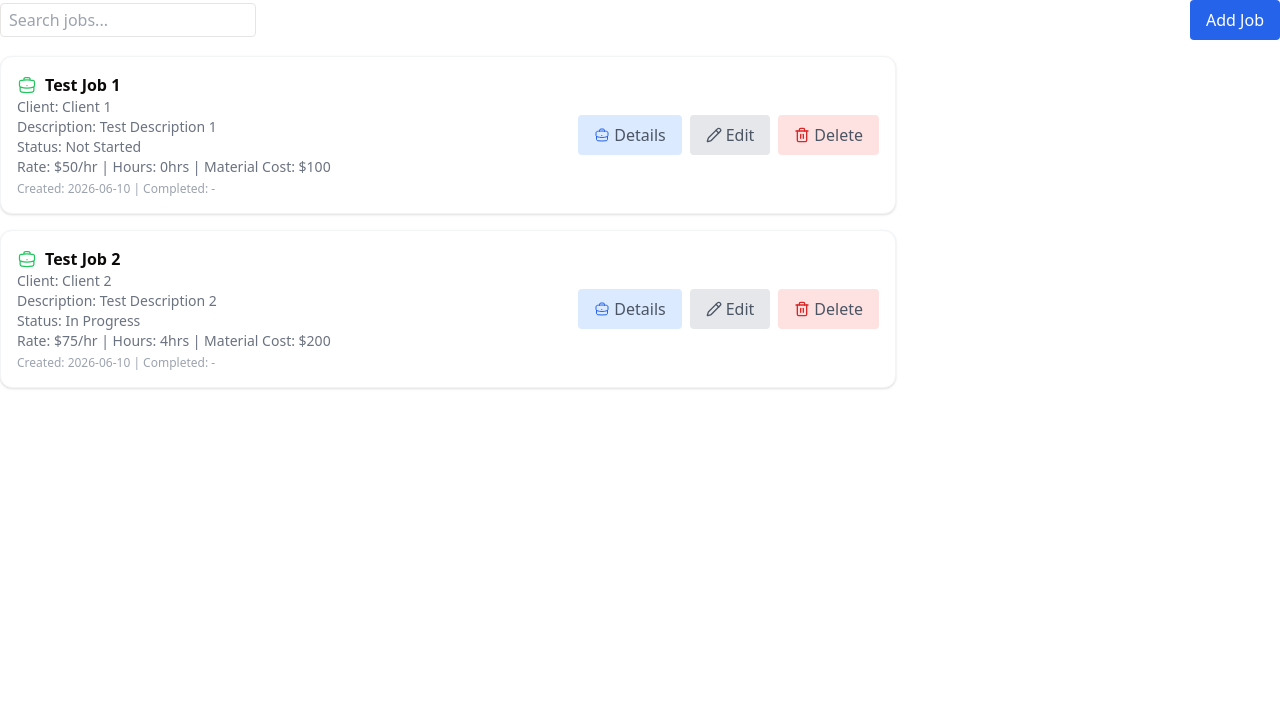
Test case: JobsListClient › opens create job form when create button is clicked
What coordinates should you click on to do the following:
click the button "Add Job"
I would click on:
 (1235, 20)
Its box is [1190,0,1279,40].
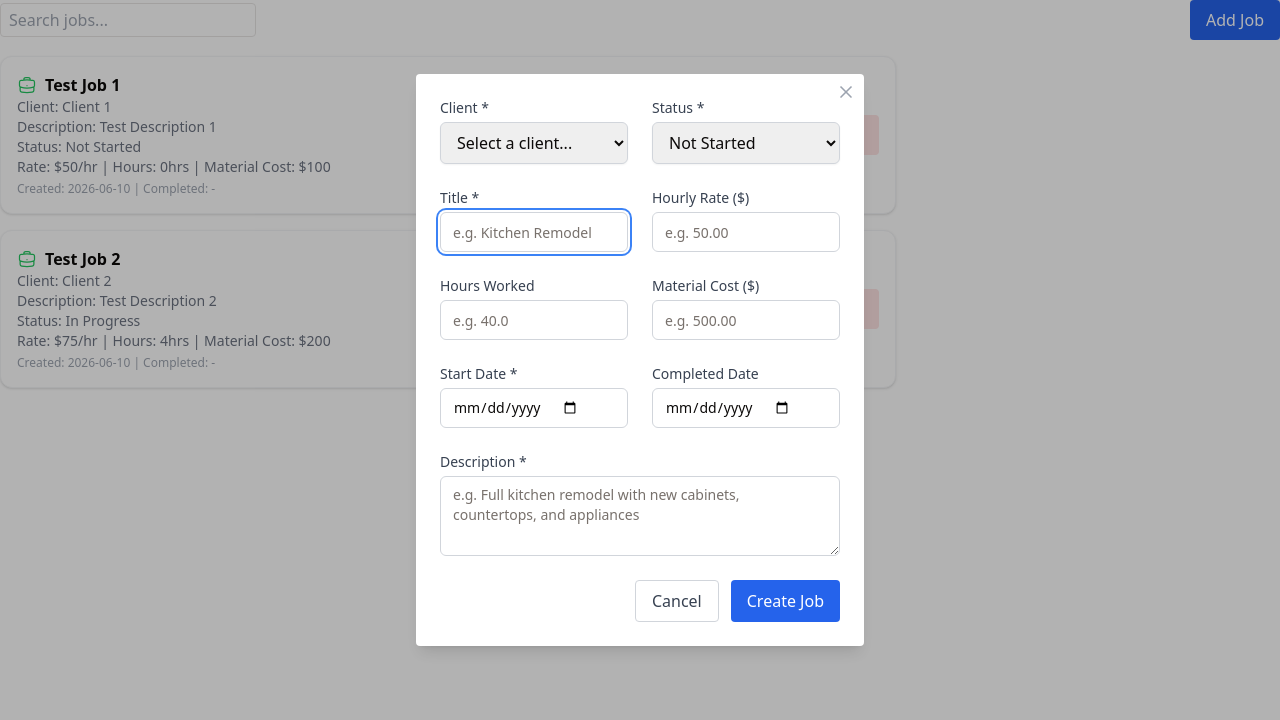
Now the dialog is shown, box [416,74,864,646]
